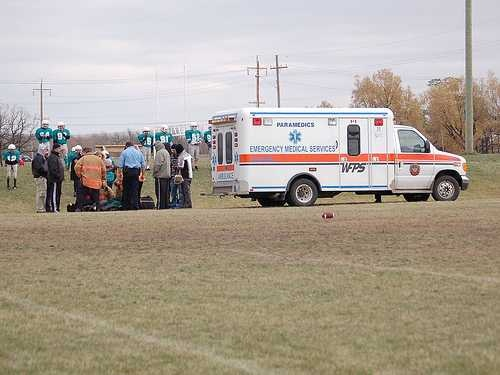Ambulance: (193, 87, 481, 213)
